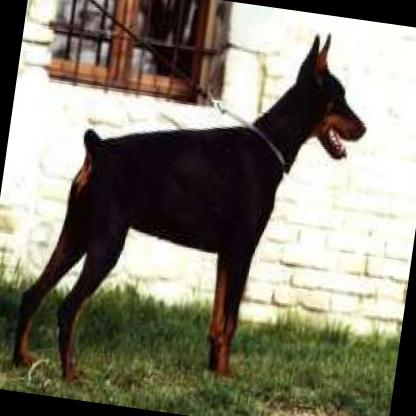Doberman: (2, 0, 378, 415)
